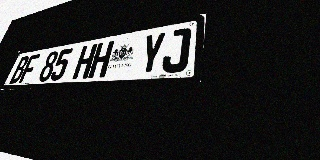5: (49, 48, 73, 81)
8: (37, 50, 60, 82)
B: (9, 55, 30, 84)
F: (18, 54, 40, 83)
H: (88, 41, 114, 78), (72, 44, 98, 79)
J: (160, 27, 192, 73)
Y: (137, 32, 167, 75)
